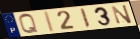2: (57, 10, 77, 31)
3: (94, 6, 114, 27)
I: (44, 11, 56, 34), (79, 8, 92, 29)
N: (111, 4, 134, 25)
Q: (18, 13, 40, 35)
